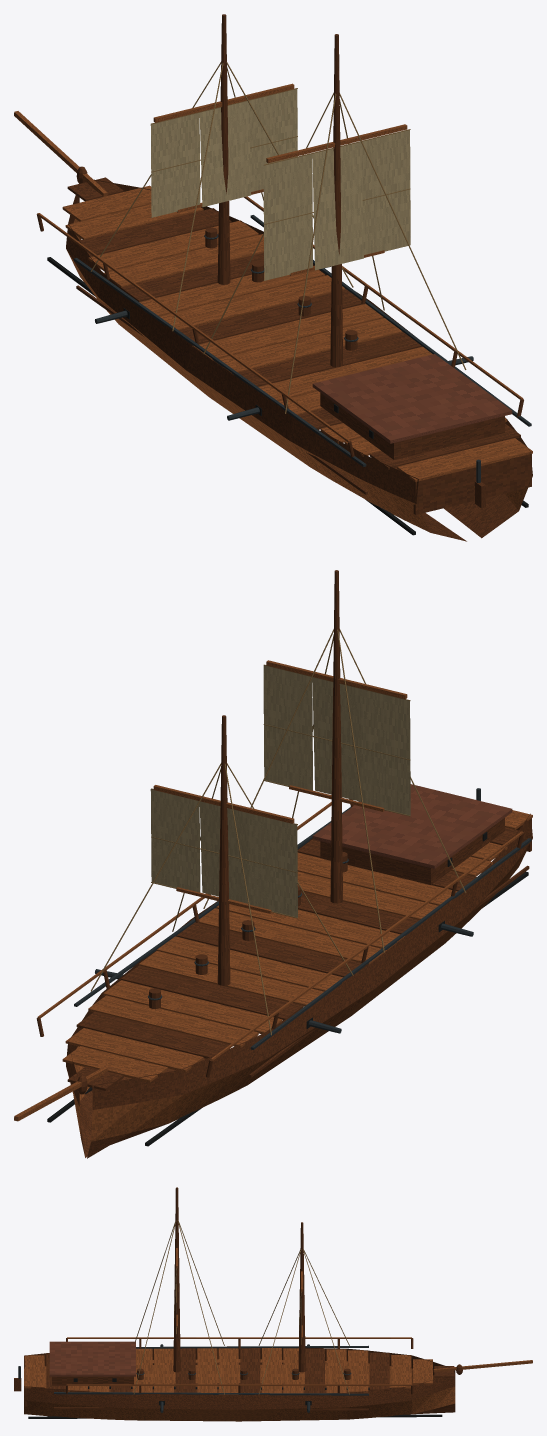
Rendered from KIT_ship_harlow_merchant.gltf.
3 renders of one model, top to bottom at view 1: azimuth 30°, elevation 25°; view 2: azimuth 150°, elevation 25°; view 3: azimuth 270°, elevation 25°, orthographic. The views are drawn at different scales.
Parts seen in each view (by area): view 1: hull, sail_02, sail_01; view 2: hull, sail_02, sail_01; view 3: hull.
Boxes of the visible parts, <box> form: hull: <box>14,14,532,541</box>; sail_02: <box>263,129,410,280</box>; sail_01: <box>150,88,297,217</box>; hull: <box>14,570,532,1158</box>; sail_02: <box>263,664,410,816</box>; sail_01: <box>150,788,297,918</box>; hull: <box>24,1187,532,1421</box>.
Size of the model in its own units: 7.8 by 12.34 by 25.87.
Materials: 7 (7 with a texture image).
